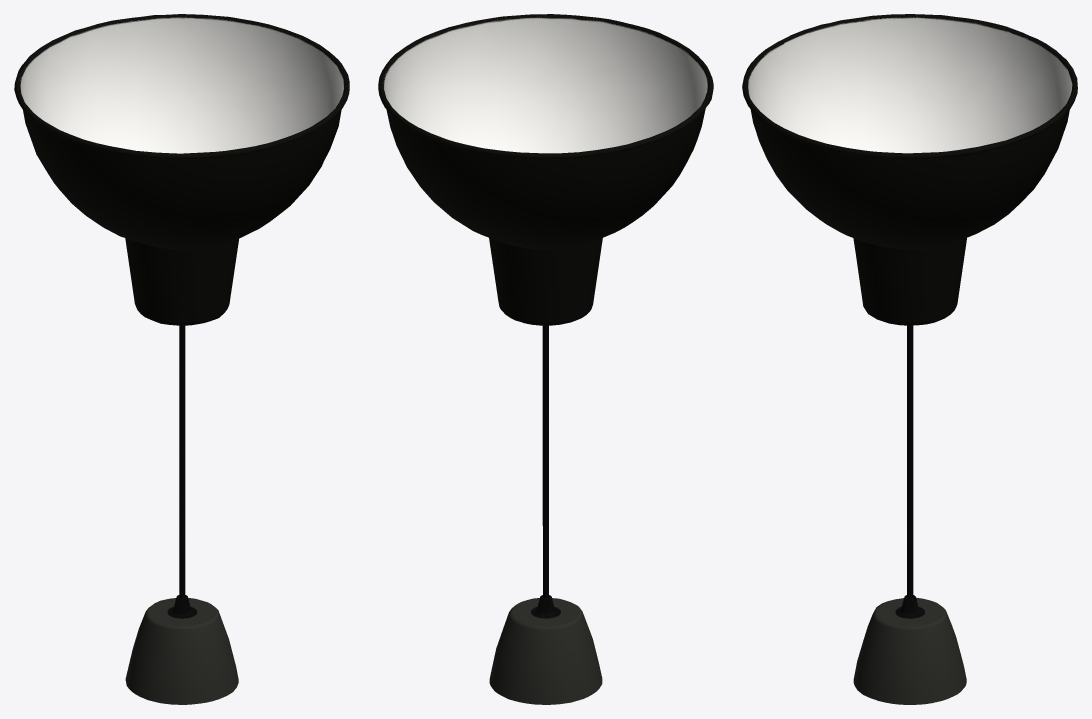
3 views of the same model, side by side, from view 1: azimuth 30°, elevation 25°; view 2: azimuth 150°, elevation 25°; view 3: azimuth 270°, elevation 25° (orthographic).
Visible parts, largest first — view 1: 80407114-SKURUP001; view 2: 80407114-SKURUP001; view 3: 80407114-SKURUP001.
Boxes of the visible parts, x1,y1,x2,y2 form: 80407114-SKURUP001: (14, 14, 349, 704); 80407114-SKURUP001: (378, 14, 713, 704); 80407114-SKURUP001: (742, 14, 1077, 704).
Bounding box in the file's own units: 0.392 × 0.7707 × 0.3923.
Materials: 1 (1 with a texture image).
